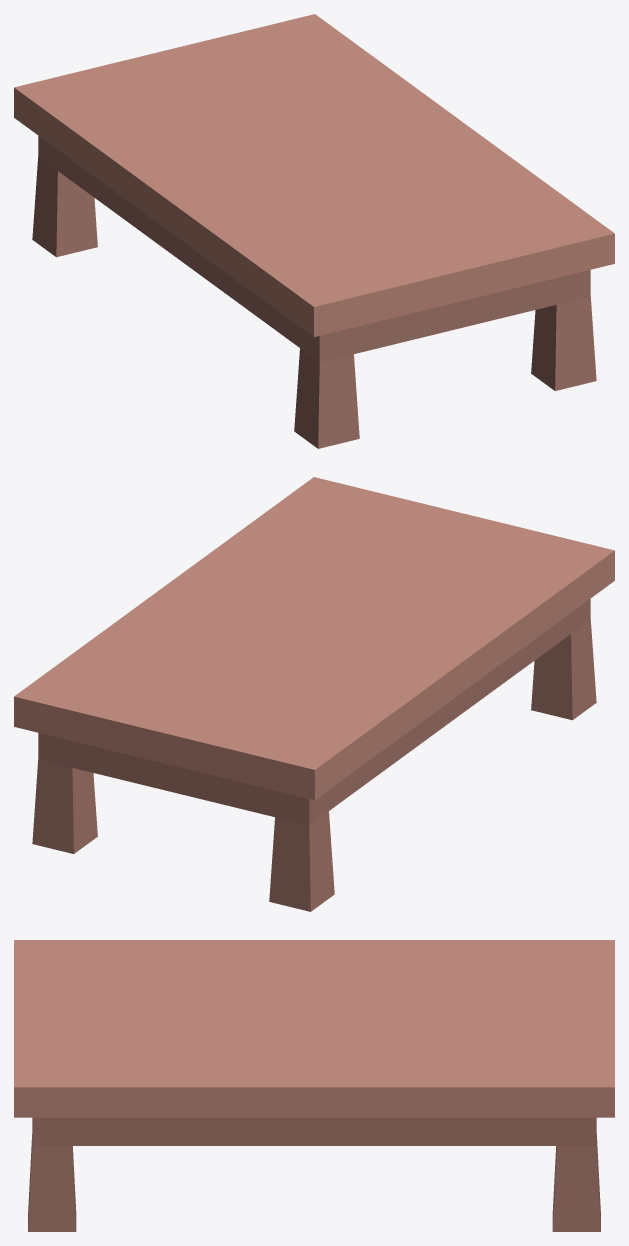
Rendered from CoffeeTable.glb.
3 renders of one model, top to bottom at view 1: azimuth 30°, elevation 25°; view 2: azimuth 150°, elevation 25°; view 3: azimuth 270°, elevation 25°, orthographic.
Visible parts, largest first — view 1: Wood.009, DarkWood.007; view 2: Wood.009, DarkWood.007; view 3: Wood.009, DarkWood.007.
Boxes of the visible parts, left/top/right/bottom form: Wood.009: left=14, top=14, right=614, bottom=336; DarkWood.007: left=32, top=136, right=596, bottom=448; Wood.009: left=14, top=477, right=614, bottom=799; DarkWood.007: left=32, top=599, right=596, bottom=911; Wood.009: left=14, top=940, right=614, bottom=1117; DarkWood.007: left=28, top=1117, right=600, bottom=1231.
Bounding box in the file's own units: 0.5889 × 0.2802 × 1.02.
